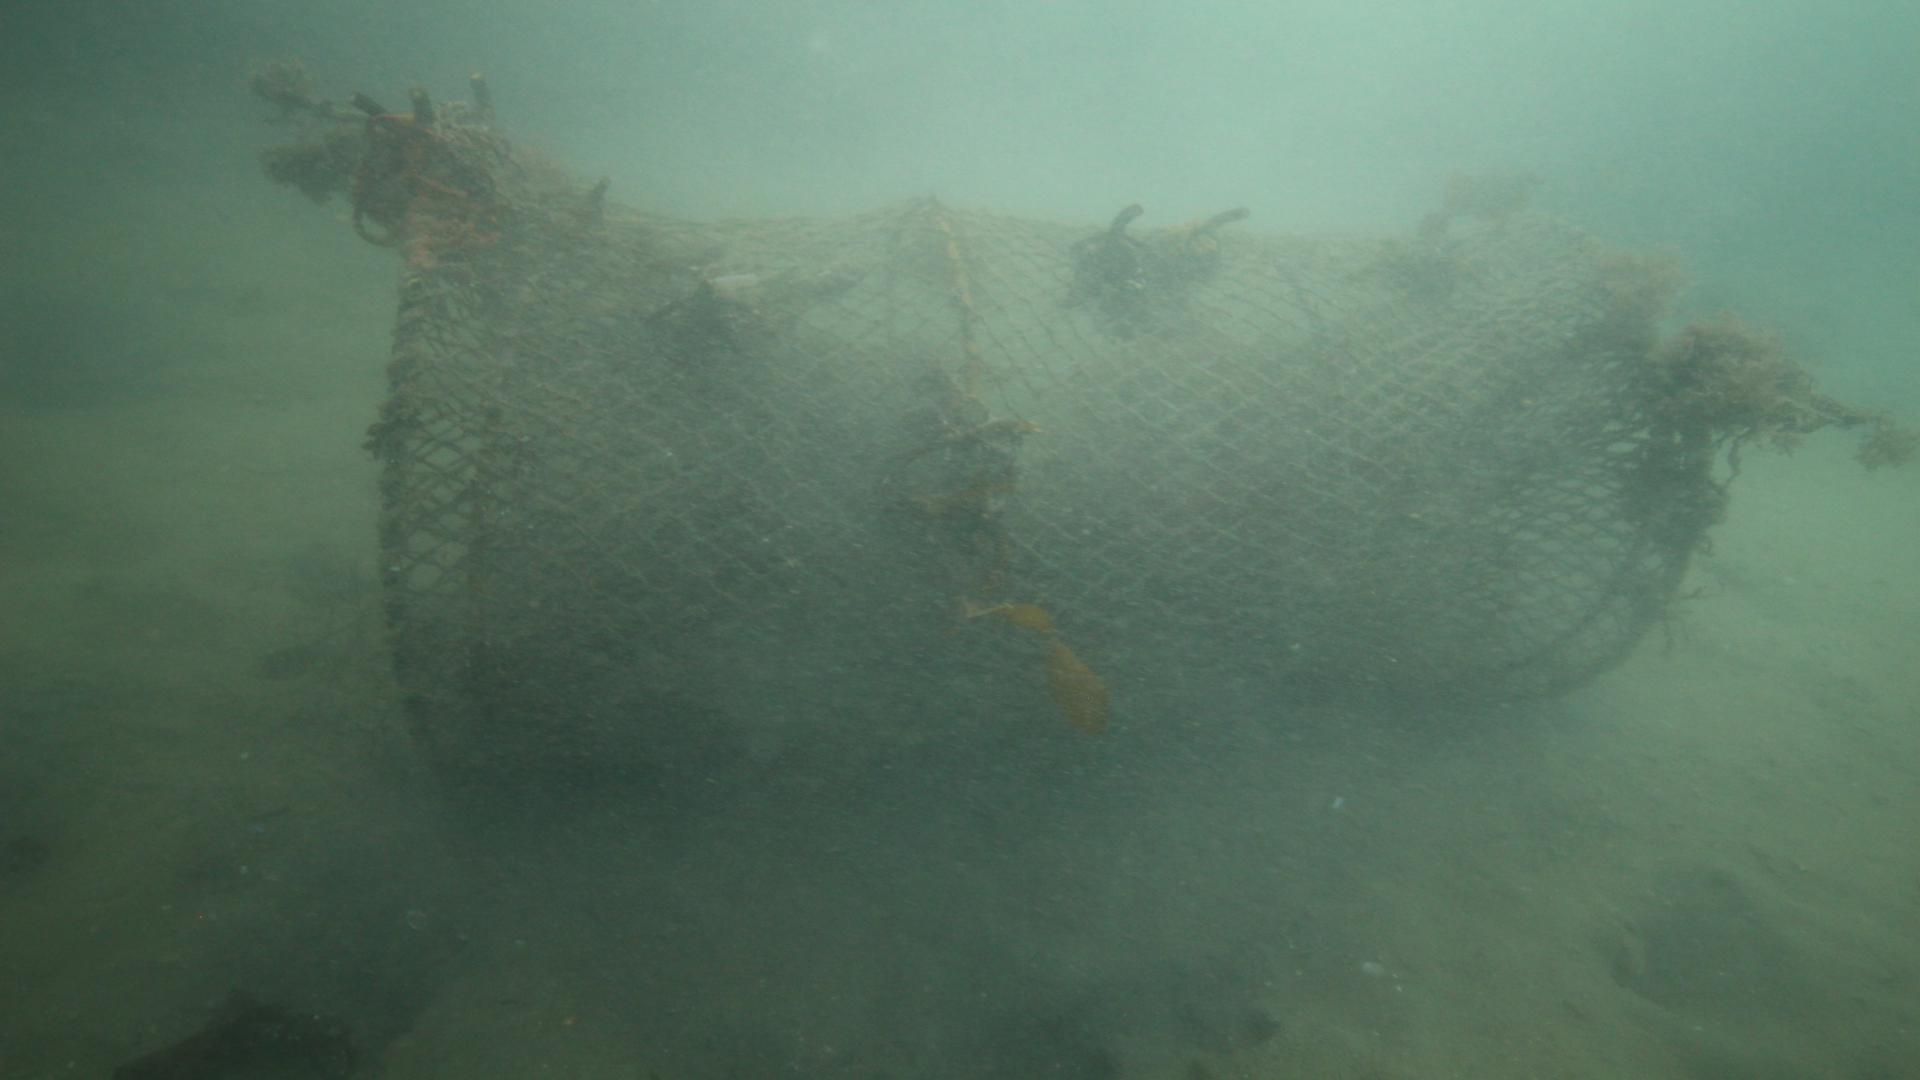spring fish trap: (375, 145, 1716, 816)
